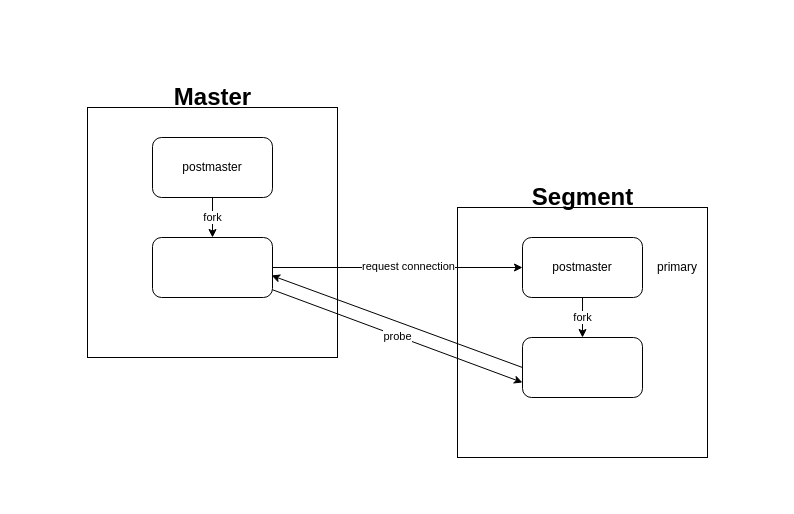
The diagram is 794 pixels wide and 514 high, and some of its shapes have lost their labels. The shapes that lost their labels are listed below. From the top down, each one's centre as x and y in pixels, then its label:
At point 212,267: "fts bgworker".
At point 582,367: "fts handler".
